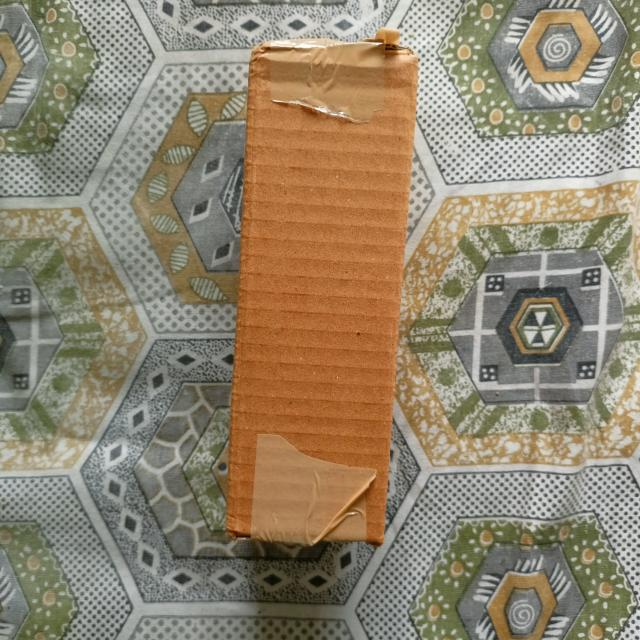box: (224, 30, 420, 551)
